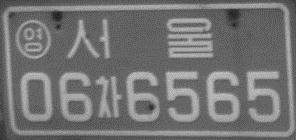0: (19, 71, 53, 122)
5: (164, 70, 200, 123), (245, 70, 281, 123)
6: (205, 71, 240, 124), (57, 71, 93, 122), (125, 70, 160, 122)
서울_D: (65, 17, 215, 61)
영: (14, 18, 52, 60)
차: (94, 73, 122, 119)
